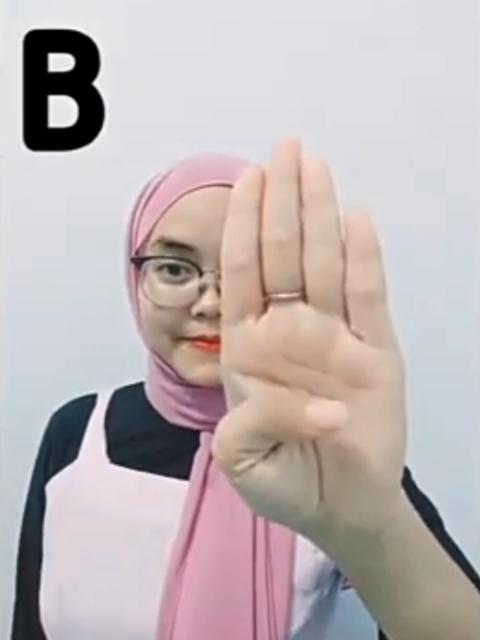B: (213, 132, 410, 538)
